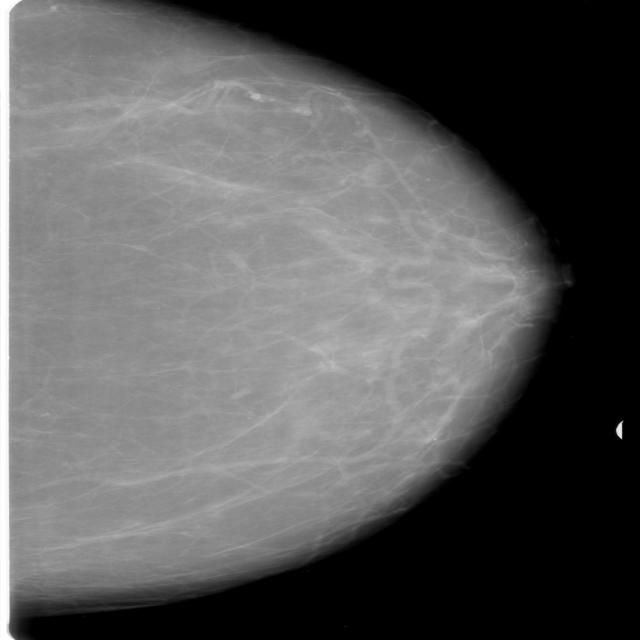normal: (0, 1, 565, 604)
